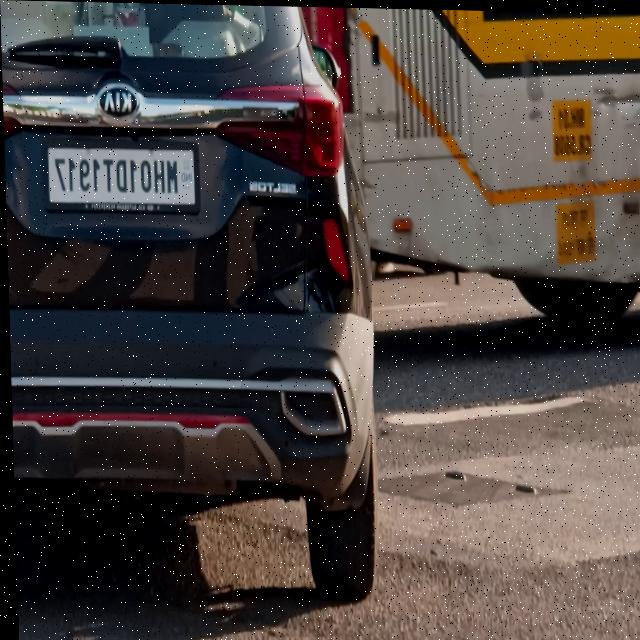plate: (33, 133, 203, 219), (545, 89, 595, 168)
